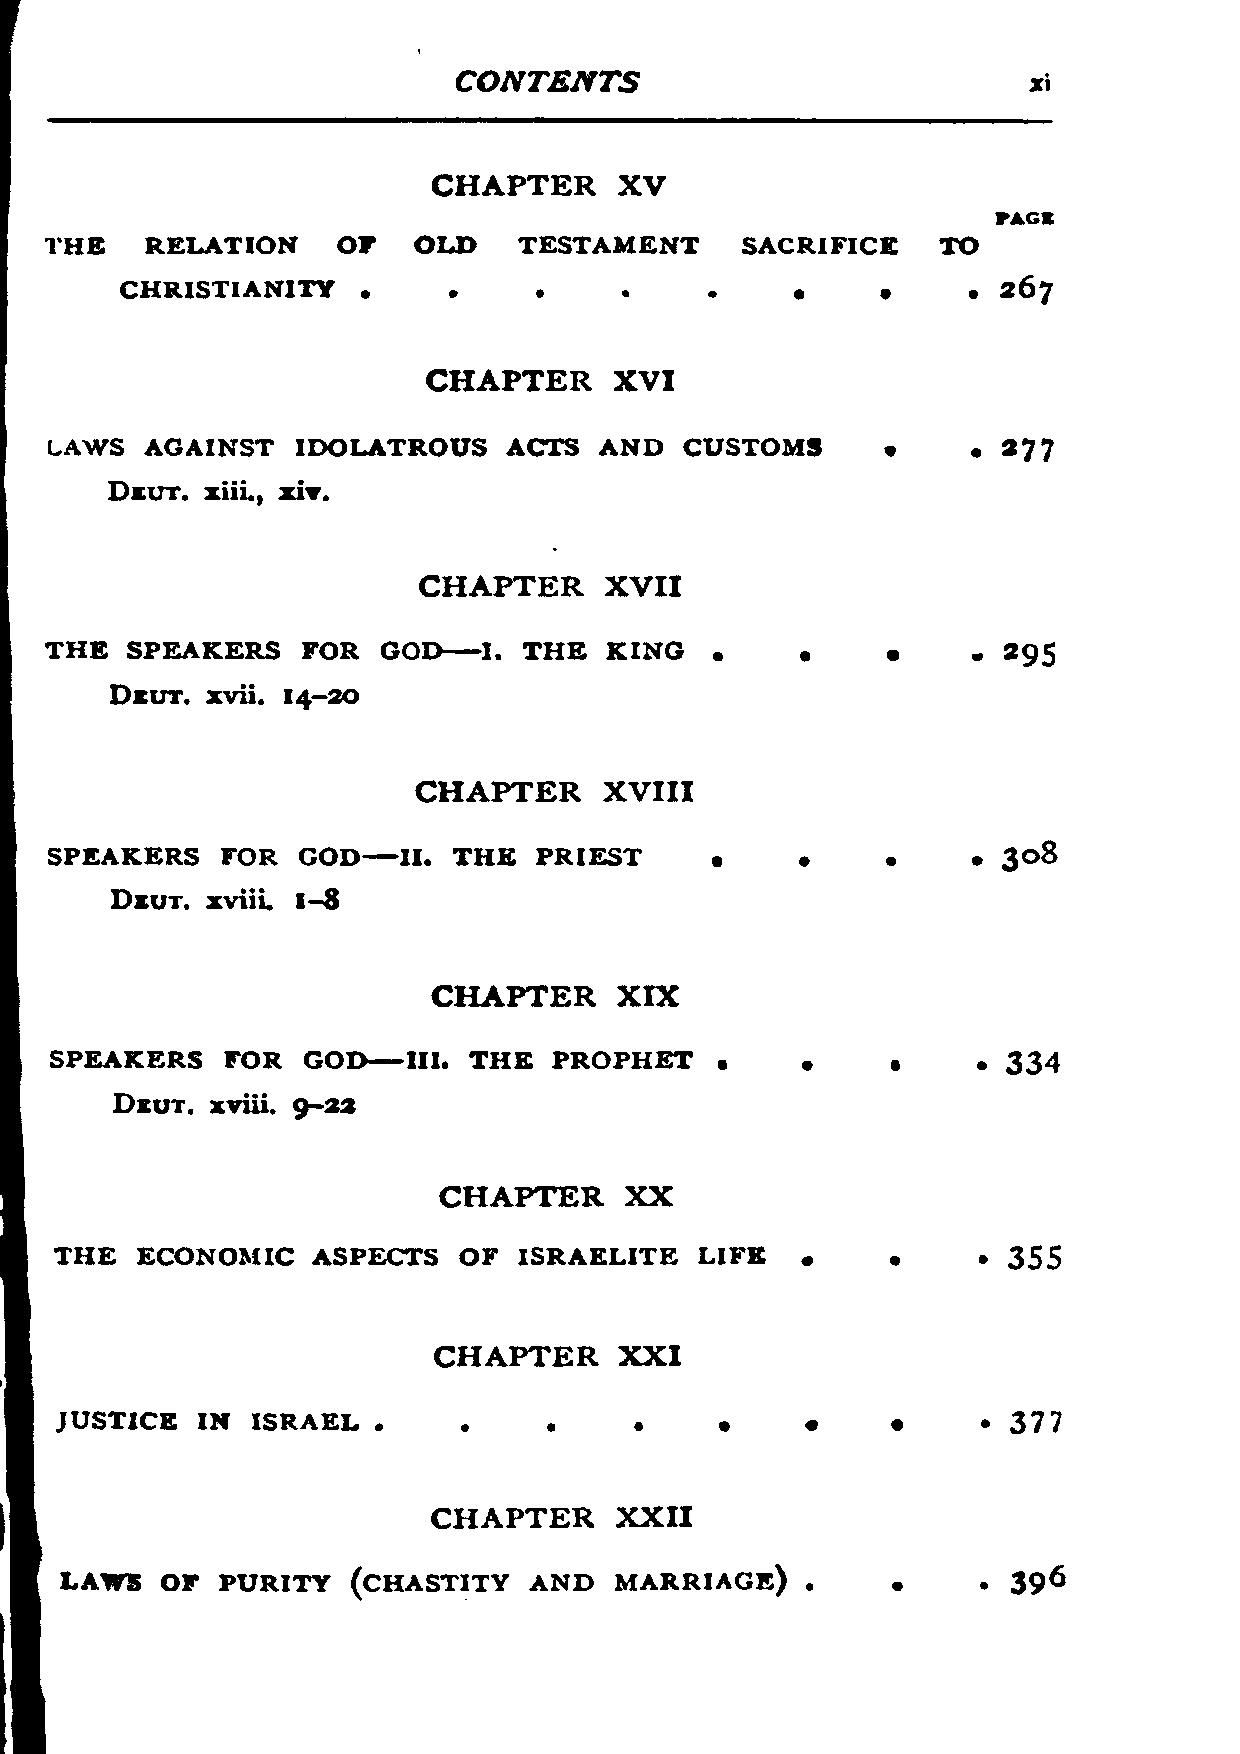TOC_chapter: (34, 225, 985, 315), (34, 429, 832, 506), (43, 625, 690, 715), (48, 1041, 692, 1119), (43, 841, 651, 918), (59, 1559, 793, 1610), (48, 1232, 768, 1270), (50, 1394, 361, 1448), (416, 974, 692, 1023), (411, 774, 709, 819), (423, 1495, 699, 1541), (417, 354, 683, 399), (420, 162, 670, 207), (433, 1176, 683, 1219), (409, 569, 688, 605), (432, 1341, 688, 1374)
TOC_pagenumber: (1004, 1033, 1066, 1090), (992, 631, 1060, 674), (1004, 1231, 1066, 1278), (994, 268, 1056, 314), (1002, 1394, 1066, 1439), (997, 829, 1057, 874), (1002, 425, 1059, 472), (1008, 1561, 1070, 1597)
chapter: (450, 63, 652, 99)
